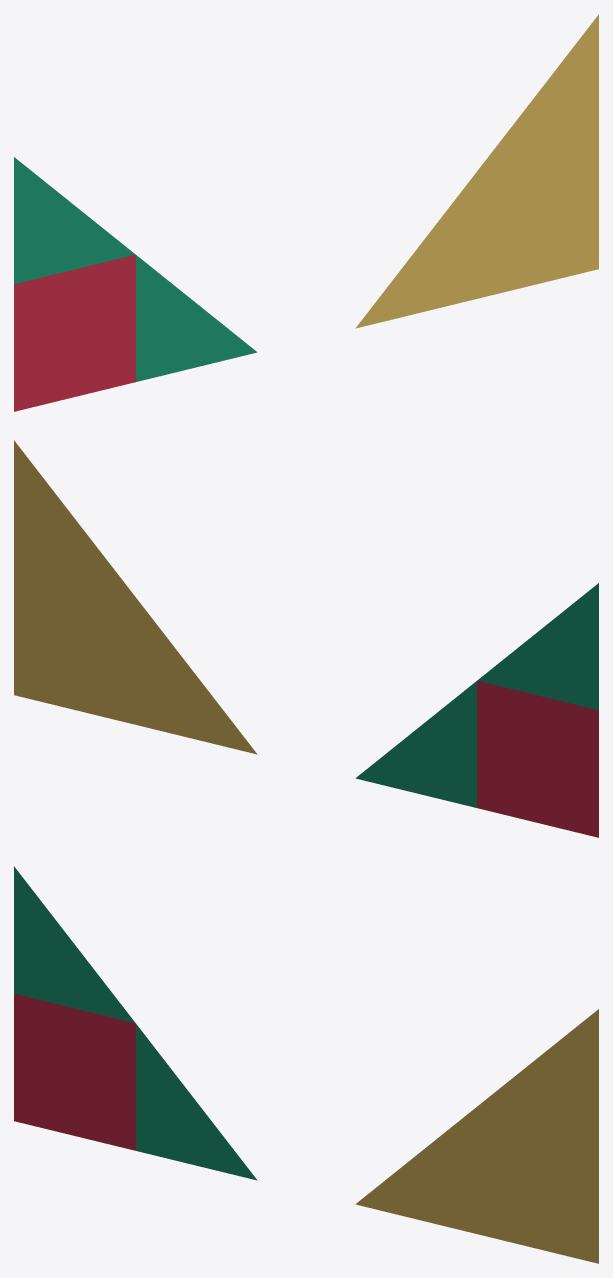
The model's file is DetailFixture.glb.
3 renders of one model, top to bottom at view 1: azimuth 30°, elevation 25°; view 2: azimuth 150°, elevation 25°; view 3: azimuth 330°, elevation 25°, orthographic.
Parts seen in each view (by area): view 1: TwoMaterialDetail; view 2: TwoMaterialDetail; view 3: TwoMaterialDetail.
Part boxes in pixels (left/top/right/bottom): TwoMaterialDetail: left=14, top=14, right=598, bottom=411; TwoMaterialDetail: left=14, top=440, right=598, bottom=837; TwoMaterialDetail: left=14, top=866, right=598, bottom=1263.
Bounding box in the file's own units: 0.24 × 0.1 × 0.
Materials: 2 (1 with a texture image).
